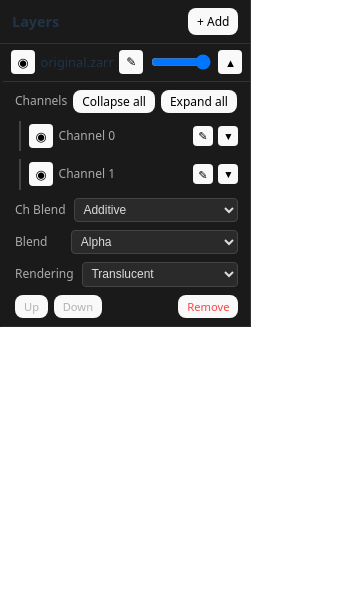
it: LayerPanel per-channel collapse › Expand all expands every channel; Collapse all collapses every channel
Click the button with aria-label "Expand all channels of original.zarr".
click(199, 101)  # box [161, 90, 237, 113]
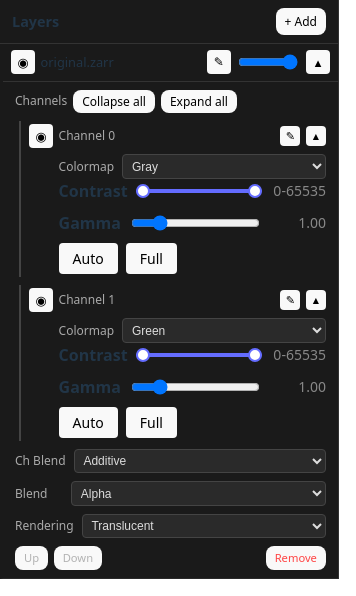
Expected: the dropdown named "original.zarr Channel 0 colormap" is shown, [122, 154, 326, 179]
Expected: the dropdown named "original.zarr Channel 1 colormap" is shown, [122, 318, 326, 343]
Expected: the button named "Collapse channel Channel 0" is shown, [306, 126, 326, 146]
Click the button with aria-label "Collapse all channels of original.zarr".
click(114, 101)  # box [73, 90, 155, 113]
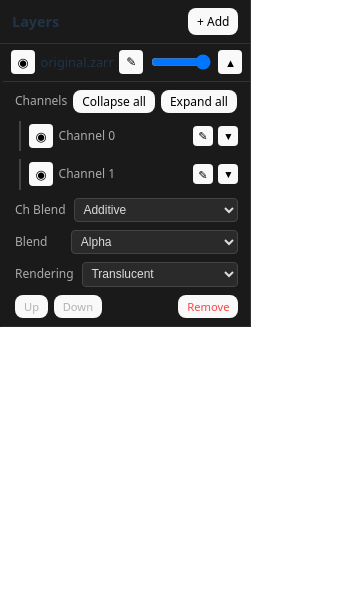
Expected: the button named "Expand channel Channel 0" is shown, [218, 126, 238, 146]
